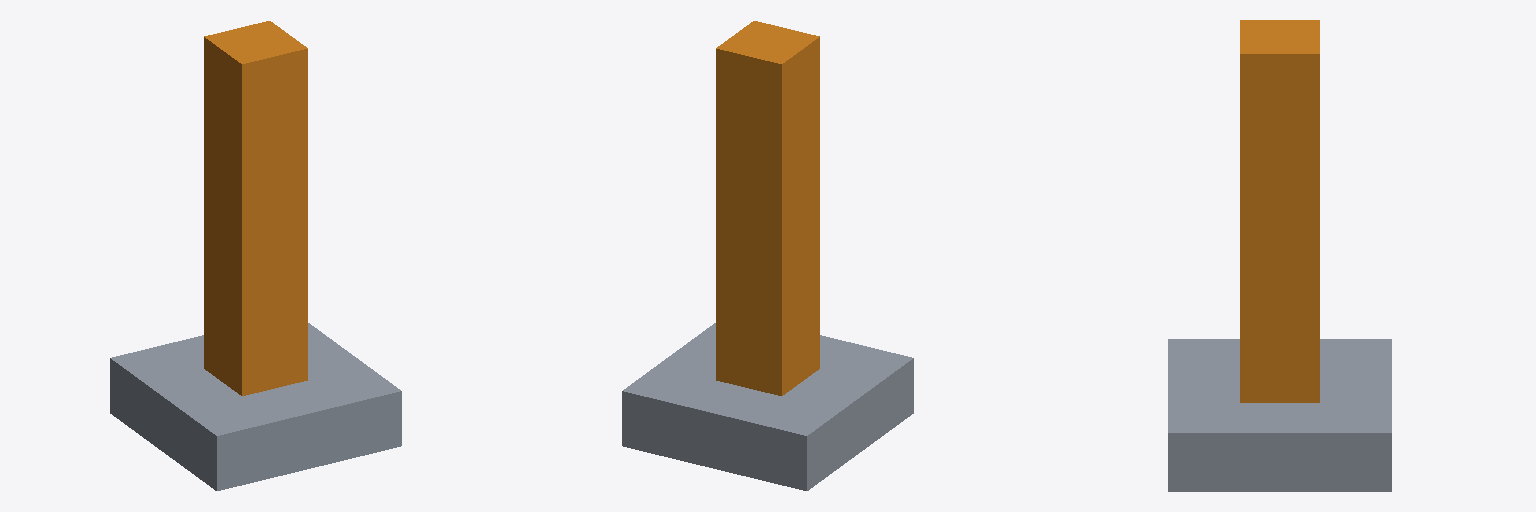
robot.urdf — mesh_demo:
<?xml version="1.0"?>
<!--
  MESH DEMO (#319) — a robot whose links are STL *meshes* loaded from this folder,
  proving Robot View's mesh loading. `base_link` uses a plain relative mesh path
  (meshes/base.stl); `upper_link` uses a package:// path (package://mesh-demo/…),
  so both resolution styles are exercised. Open this file in Snakie's Robot View,
  or point a robot.yml `model.urdf` at it.
-->
<robot name="mesh_demo">
  <material name="steel"><color rgba="0.62 0.65 0.69 1"/></material>
  <material name="amber"><color rgba="0.85 0.55 0.18 1"/></material>

  <link name="base_link">
    <visual>
      <geometry>
        <mesh filename="meshes/base.stl"/>
      </geometry>
      <material name="steel"/>
    </visual>
  </link>

  <link name="upper_link">
    <visual>
      <geometry>
        <mesh filename="package://mesh-demo/meshes/link.stl"/>
      </geometry>
      <material name="amber"/>
    </visual>
  </link>

  <joint name="shoulder" type="revolute">
    <parent link="base_link"/>
    <child link="upper_link"/>
    <origin xyz="0 0 0.04" rpy="0 0 0"/>
    <axis xyz="0 0 1"/>
    <limit lower="-1.57" upper="1.57" effort="1" velocity="1"/>
  </joint>
</robot>

--- Facts derived from the render (not from the file) ---
The picture shows the robot from 3 angles, left to right: view 1: azimuth 30°, elevation 25°; view 2: azimuth 150°, elevation 25°; view 3: azimuth 270°, elevation 25°; orthographic projection.
Robot: mesh_demo — 2 links, 1 joints (1 revolute); root link base_link; default pose: all joints at 0.
Links seen in each view (by area): view 1: upper_link, base_link; view 2: upper_link, base_link; view 3: upper_link, base_link.
Boxes of the visible links, x1,y1,x2,y2 form: upper_link: [204, 21, 307, 395]; base_link: [110, 323, 401, 490]; upper_link: [716, 21, 819, 395]; base_link: [622, 323, 913, 490]; upper_link: [1240, 20, 1319, 402]; base_link: [1168, 339, 1391, 491].
Size in the robot's own frame: 0.14 by 0.14 by 0.28 metres.
2 mesh visuals loaded from 2 distinct referenced files (2 ASCII STL).
